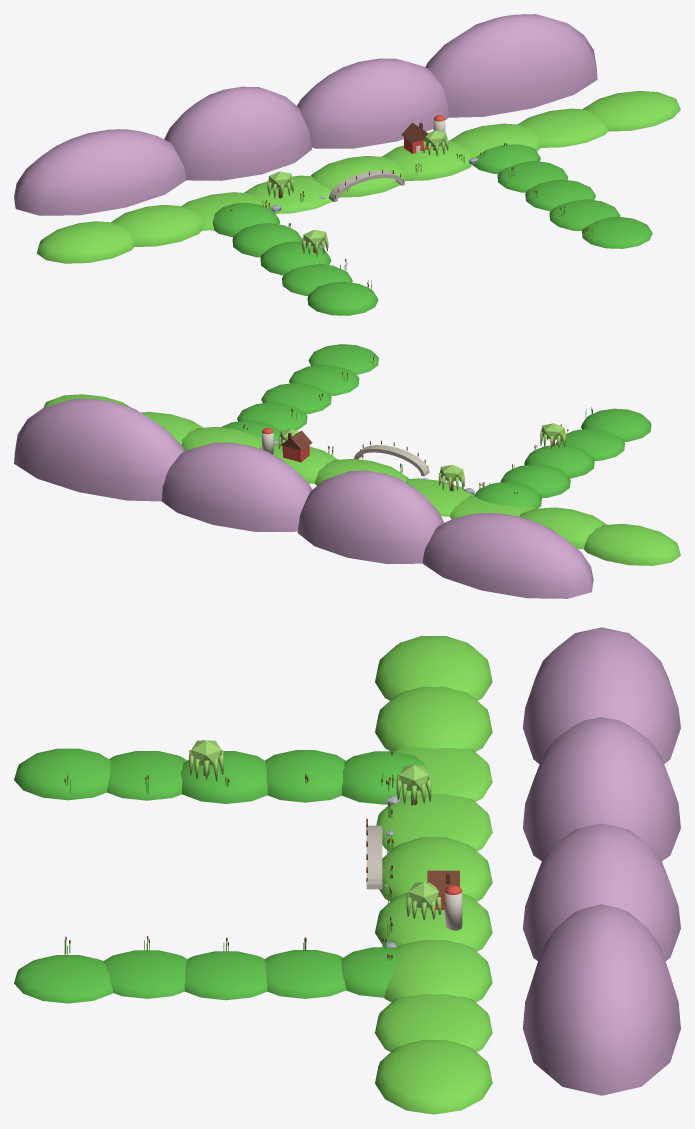
File: shore_river.glb
3 views of the same model, one above another, from view 1: azimuth 30°, elevation 25°; view 2: azimuth 150°, elevation 25°; view 3: azimuth 270°, elevation 25° (orthographic). The views are drawn at different scales.
Parts seen in each view (by area): view 1: shore_river_mesh; view 2: shore_river_mesh; view 3: shore_river_mesh.
Part boxes in pixels (<box>): shore_river_mesh: <box>14,14,680,315</box>; shore_river_mesh: <box>14,344,680,598</box>; shore_river_mesh: <box>14,627,680,1114</box>.
Bounding box in the file's own units: 113 × 12 × 67.46.
